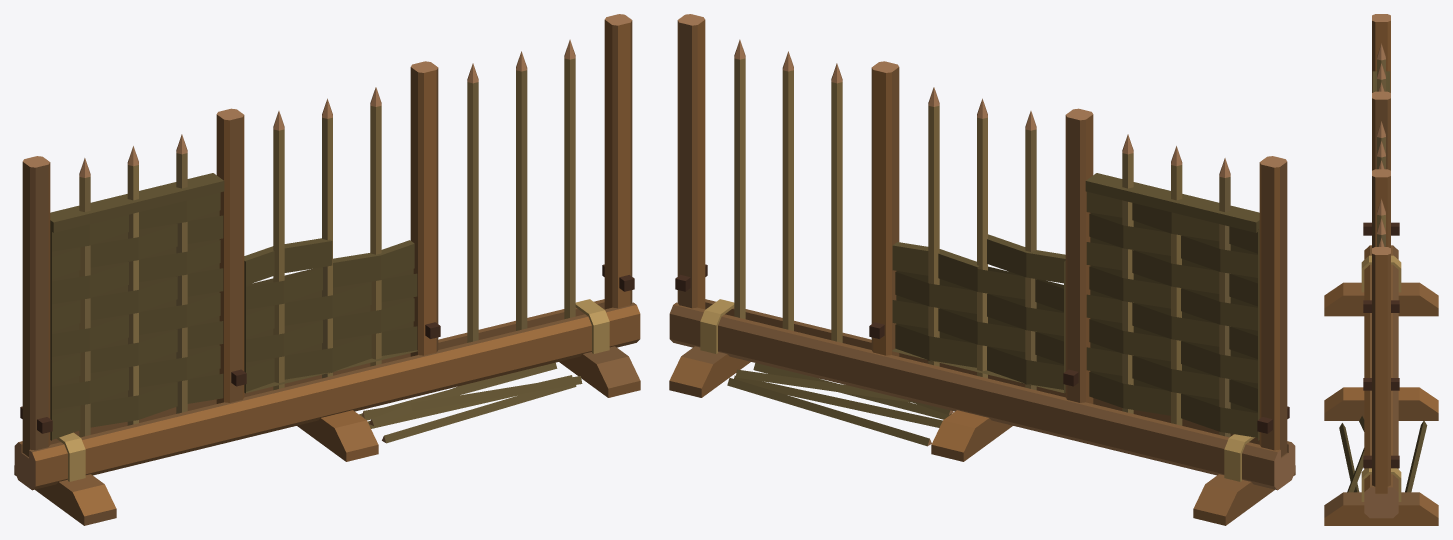
The model's file is wattle-panel-weaving-jig-d1aa1c.glb.
3 views of the same model, side by side, from view 1: azimuth 30°, elevation 25°; view 2: azimuth 150°, elevation 25°; view 3: azimuth 270°, elevation 25° (orthographic). The views are drawn at different scales.
Visible parts, largest first — view 1: jig, panel-weave, withies-rods; view 2: jig, panel-weave, withies-rods; view 3: jig, withies-rods, panel-weave.
Part boxes in pixels (x1,y1,x2,y2): jig: (14,14,640,525); panel-weave: (50,173,224,440); withies-rods: (359,362,582,443); jig: (669,14,1295,525); panel-weave: (1085,173,1259,440); withies-rods: (727,363,953,446); jig: (1324,14,1438,525); withies-rods: (1339,416,1427,492); panel-weave: (1372,71,1390,92).
Bounding box in the file's own units: 3 × 1.62 × 0.6.
